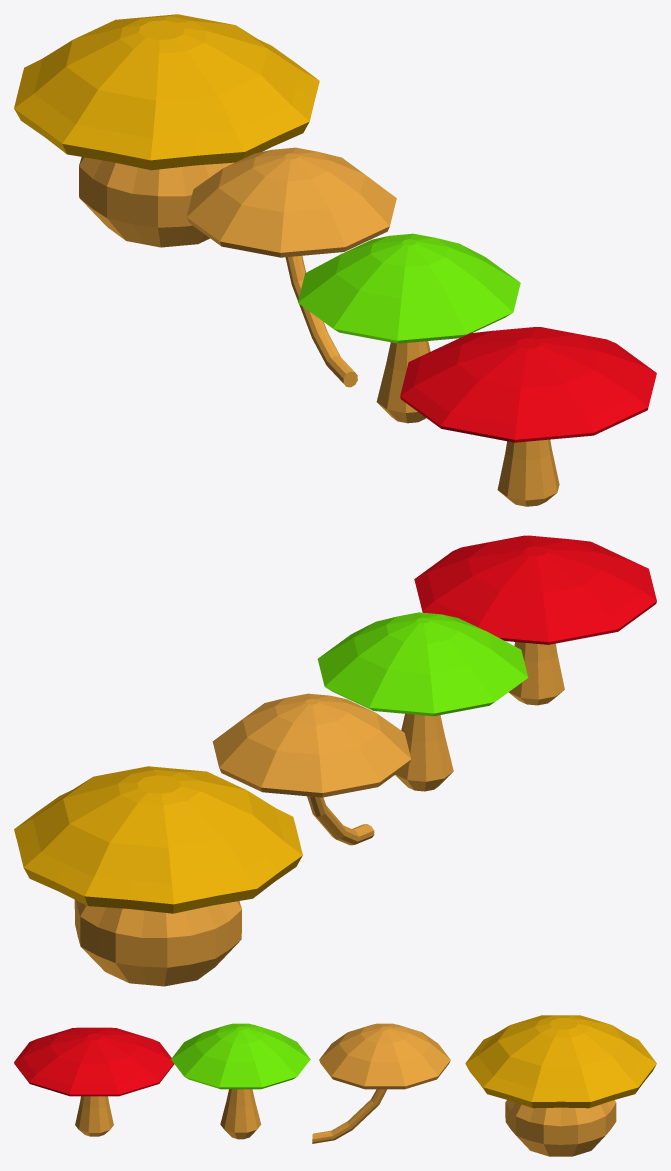
The model's file is Mushrooms.fbx.
3 renders of one model, top to bottom at view 1: azimuth 30°, elevation 25°; view 2: azimuth 150°, elevation 25°; view 3: azimuth 270°, elevation 25°, orthographic. The views are drawn at different scales.
Visible parts, largest first — view 1: Cylinder.024, Cylinder.021, Cylinder.022, Cylinder.023; view 2: Cylinder.024, Cylinder.021, Cylinder.022, Cylinder.023; view 3: Cylinder.024, Cylinder.021, Cylinder.022, Cylinder.023.
Part boxes in pixels (x1=…): Cylinder.024: x1=14, y1=14, x2=319, y2=247; Cylinder.021: x1=400, y1=327, x2=656, y2=506; Cylinder.022: x1=298, y1=233, x2=520, y2=423; Cylinder.023: x1=186, y1=147, x2=396, y2=387; Cylinder.024: x1=14, y1=766, x2=302, y2=986; Cylinder.021: x1=414, y1=535, x2=656, y2=705; Cylinder.022: x1=317, y1=612, x2=528, y2=791; Cylinder.023: x1=212, y1=693, x2=411, y2=845; Cylinder.024: x1=465, y1=1015, x2=656, y2=1156; Cylinder.021: x1=14, y1=1027, x2=174, y2=1136; Cylinder.022: x1=171, y1=1023, x2=310, y2=1139; Cylinder.023: x1=312, y1=1023, x2=450, y2=1143.
Bounding box in the file's own units: 2198 × 1656 × 7749.
